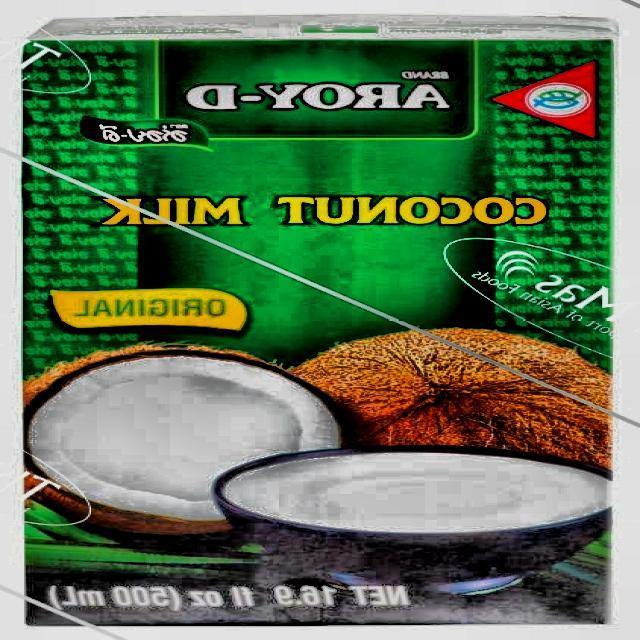cardboard: (20, 12, 618, 626)
